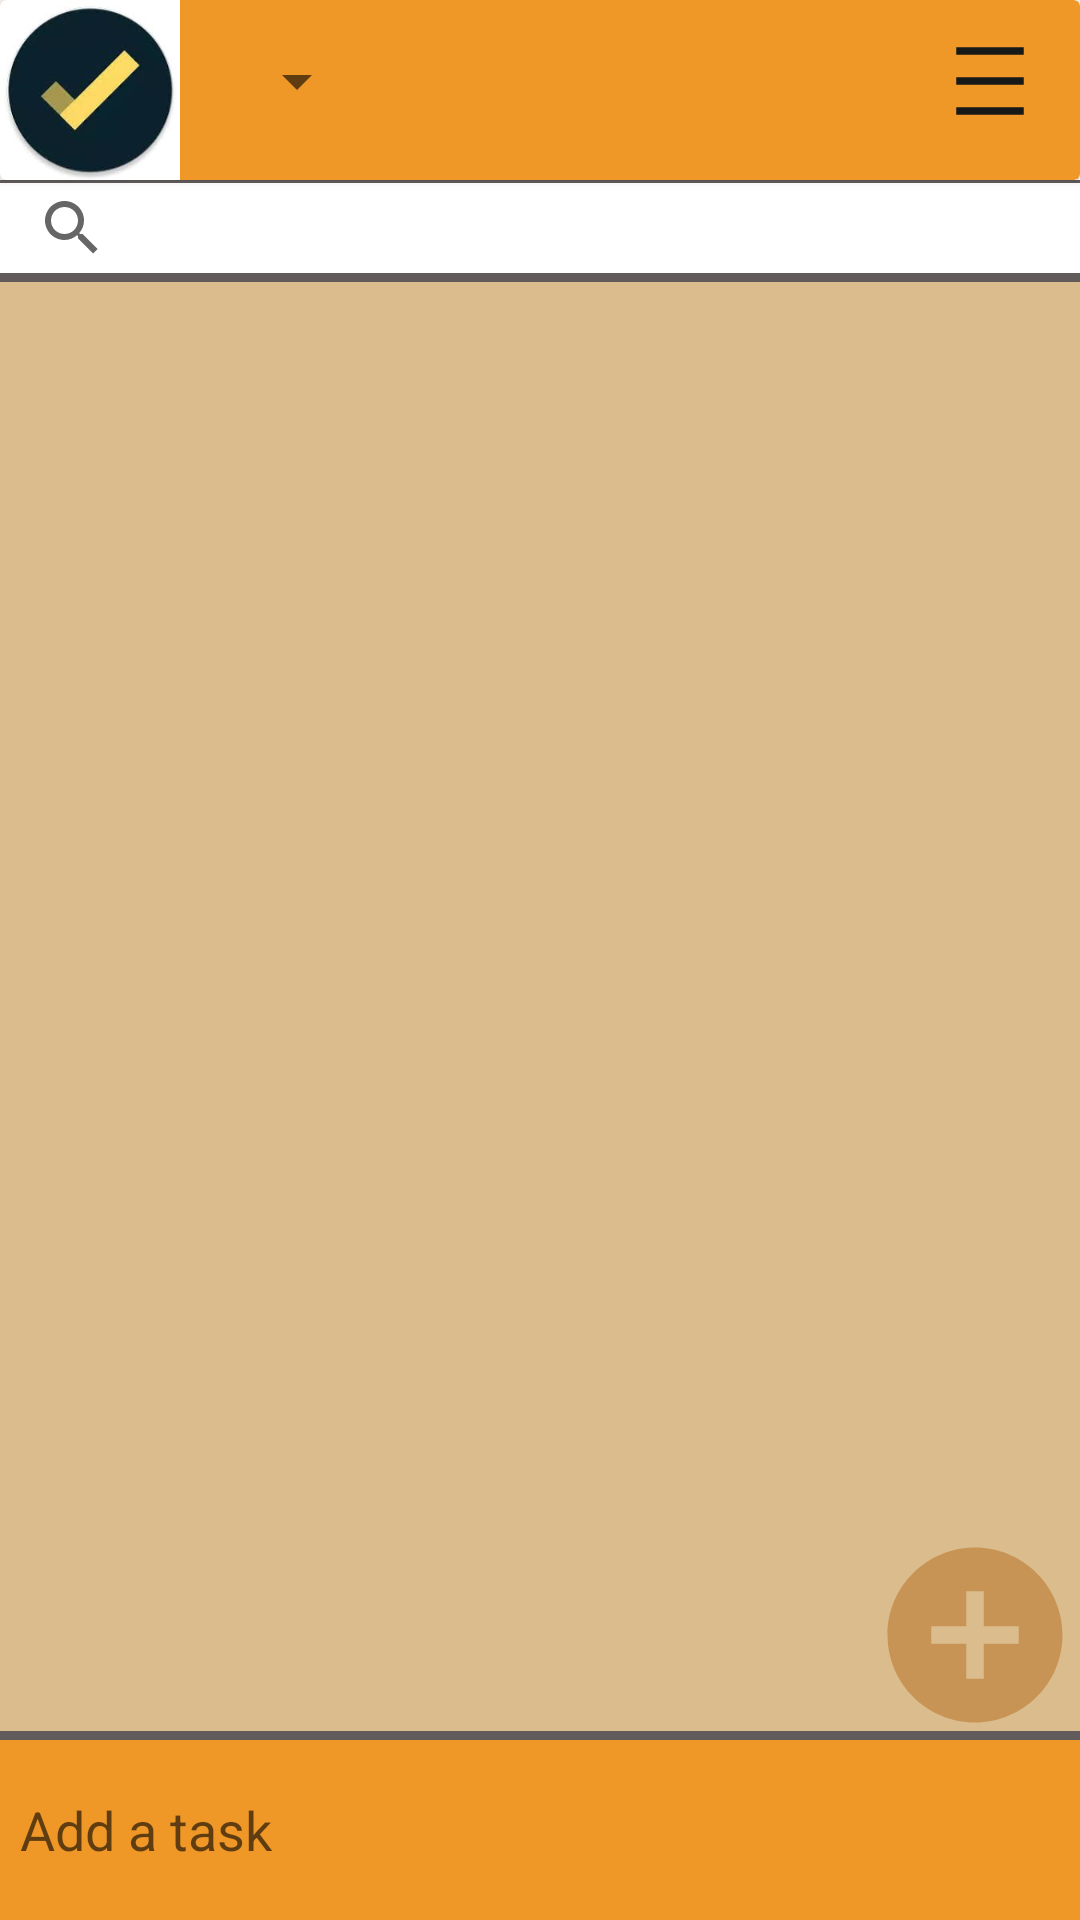

Named icons in this screenshot (1080×1920) and their bounding boxes, (x1, y1, x2, y2):
add: (887, 1547, 1063, 1723)
density medium: (956, 47, 1024, 115)
